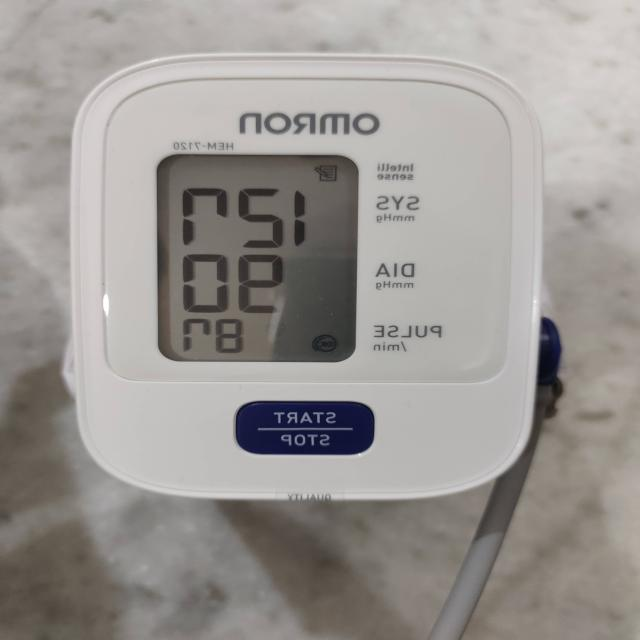bp: (61, 52, 546, 505)
